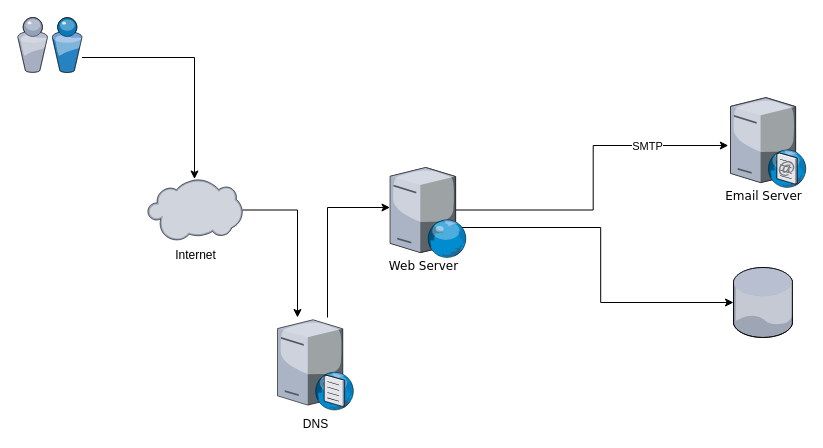
The diagram is 823 pixels wide and 448 high, and some of its shapes have lost their labels. The shapes that lost their labels are listed below. From the top down, each one's centre as x and y in pixels, then its label:
the point at 49,44: Users
the point at 762,302: MongoDB
